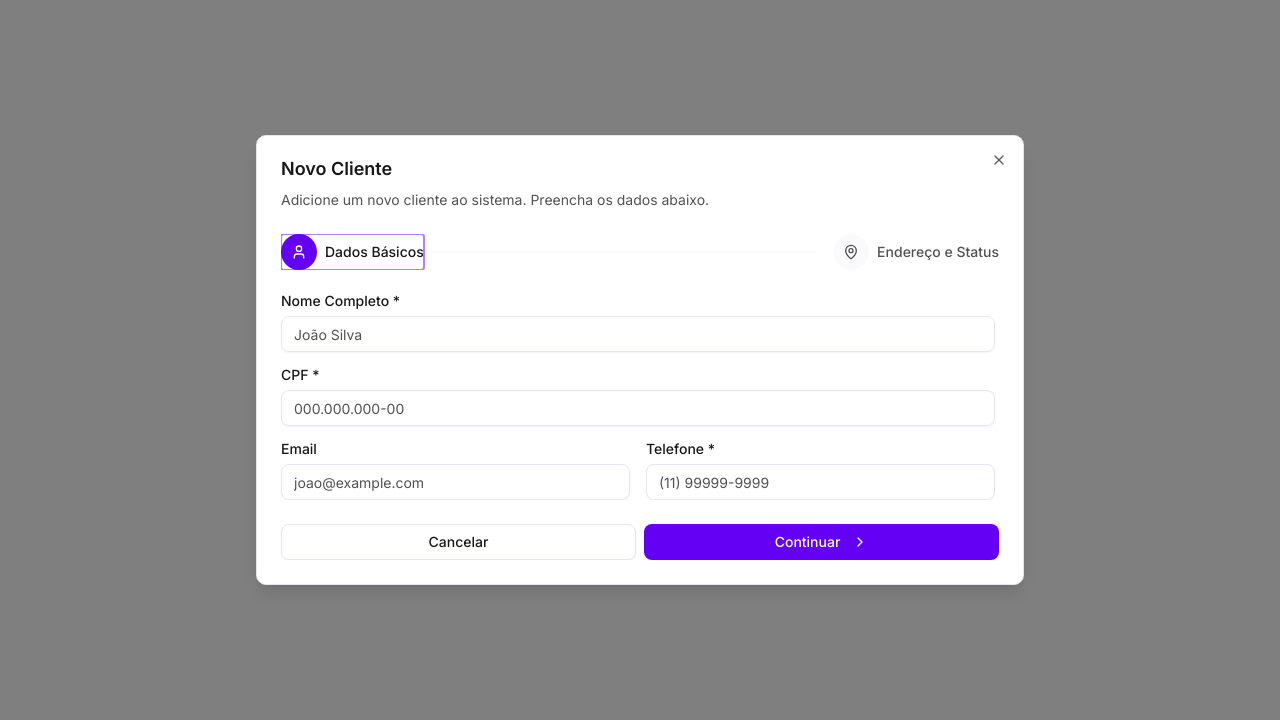
Scenario: ClientFormDialog - preenchimento de Cidade pelo CEP › cidade permanece preenchida mesmo depois que a lista de cidades termina de carregar
This screenshot has width=1280, height=720.
In the field labelled "Nome Completo *": (638, 334) [281,316,995,352], type "Maria Souza"
In the field labelled "CPF *": (638, 408) [281,390,995,426], type "52998224725"
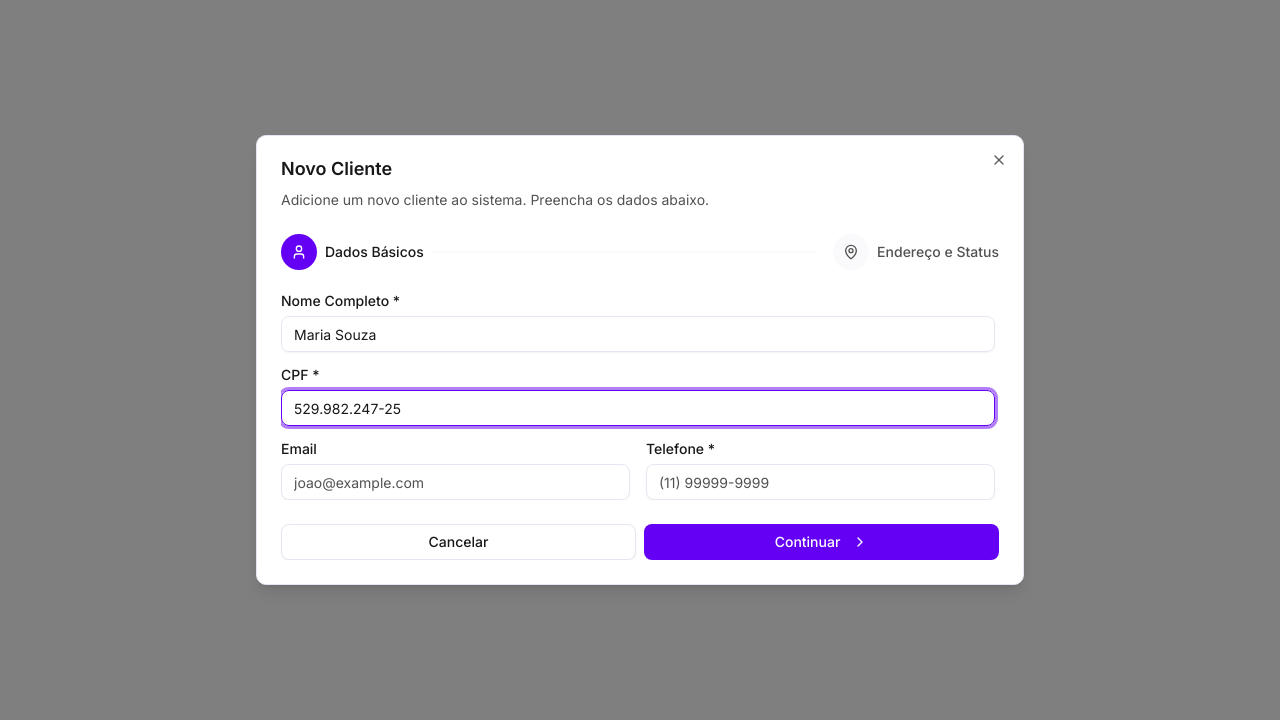
In the field labelled "Email": (456, 482) [281,464,630,500], type "maria@example.com"
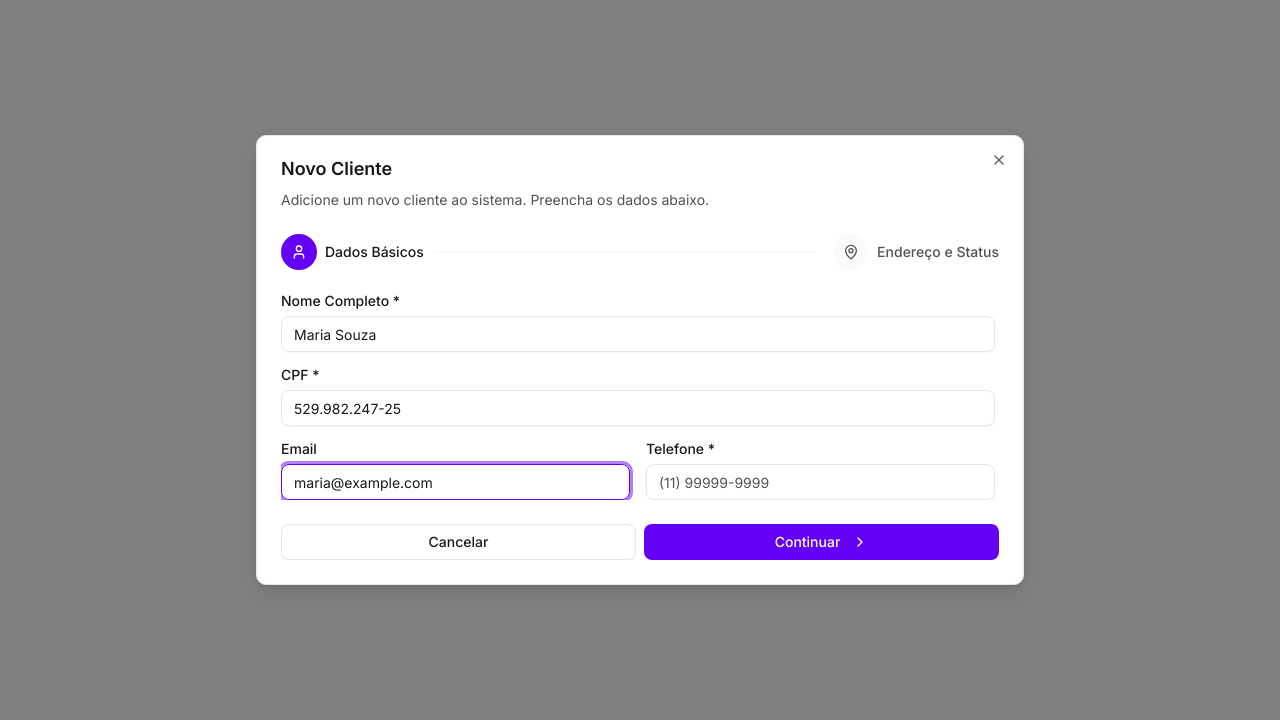
In the field labelled "Telefone *": (820, 482) [646,464,995,500], type "11987654321"
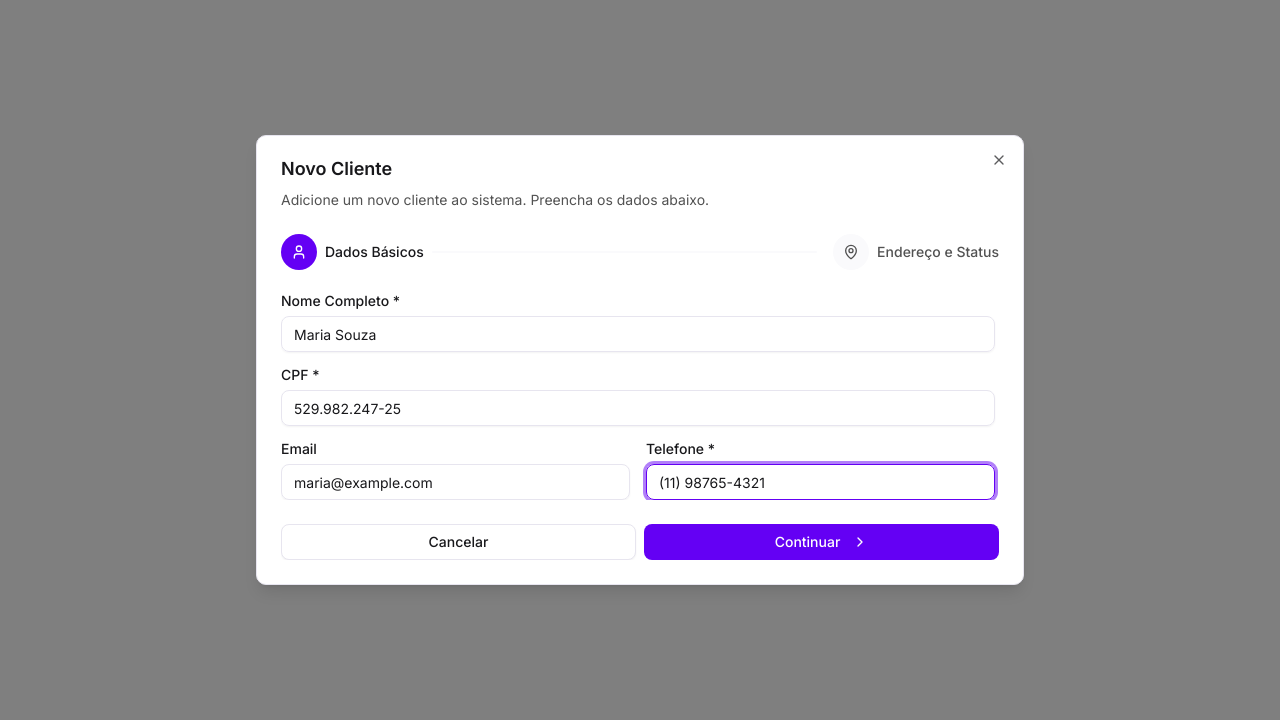
Click the button "Continuar": (822, 542) [644,524,999,560]
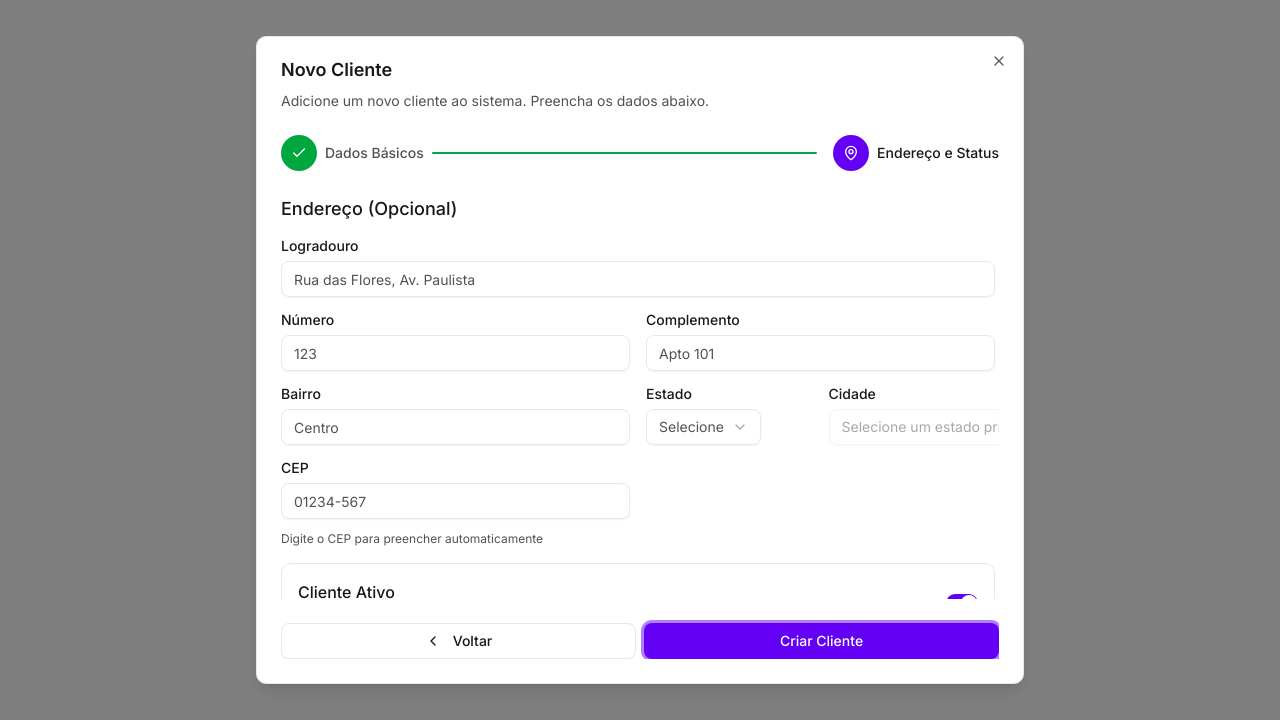
Now the text "Cliente Ativo" is shown, box [298,582,395,599]
In the field with placeholder "01234-567": (456, 501) [281,483,630,519], type "01001000"
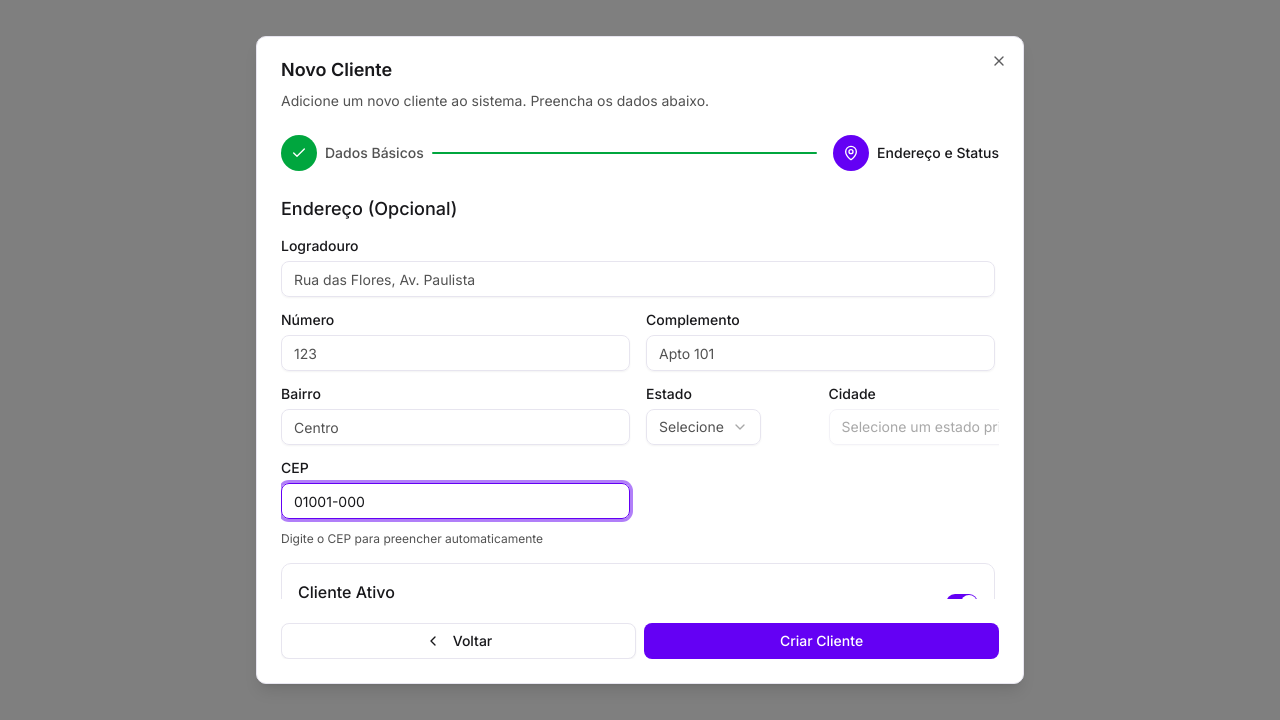
Press Tab
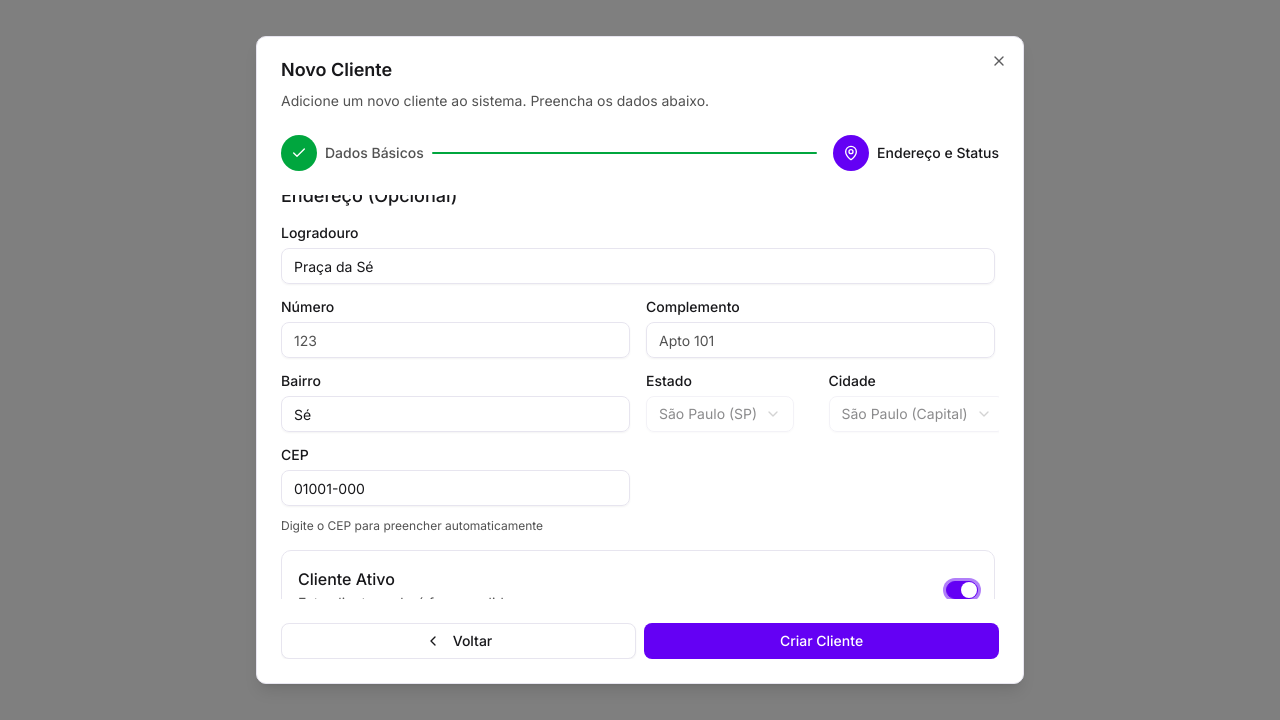
Now the field with placeholder "Rua das Flores, Av. Paulista" holds "Praça da Sé", box [281,248,995,284]
Now the dropdown named "Cidade" shows "São Paulo", box [828,396,999,432]
